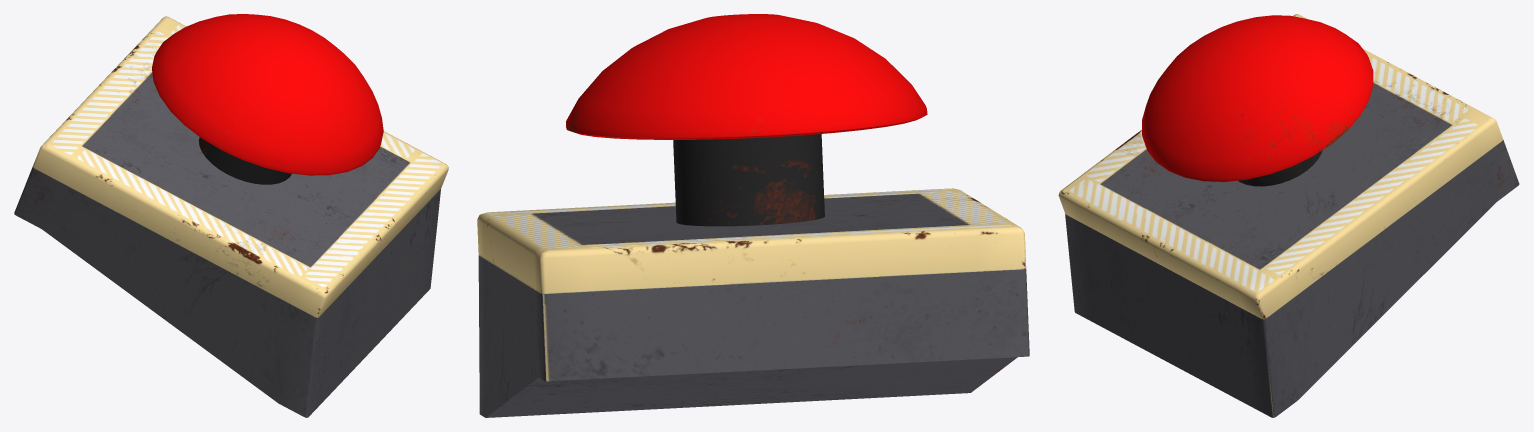
Rendered from botao.fbx.
The picture shows the model from 3 angles, left to right: view 1: azimuth 30°, elevation 25°; view 2: azimuth 150°, elevation 25°; view 3: azimuth 270°, elevation 25°; orthographic projection. The views are drawn at different scales.
Parts seen in each view (by area): view 1: defaultMaterial, botão; view 2: defaultMaterial, botão; view 3: defaultMaterial, botão.
Part boxes in pixels (x1,y1,x2,y2): defaultMaterial: [14, 16, 448, 417]; botão: [152, 14, 383, 184]; defaultMaterial: [477, 188, 1029, 417]; botão: [566, 14, 927, 226]; defaultMaterial: [1058, 14, 1519, 417]; botão: [1142, 15, 1373, 186].
Size of the model in its own units: 36.88 by 26.74 by 36.96.
1 material, 1 textured.
